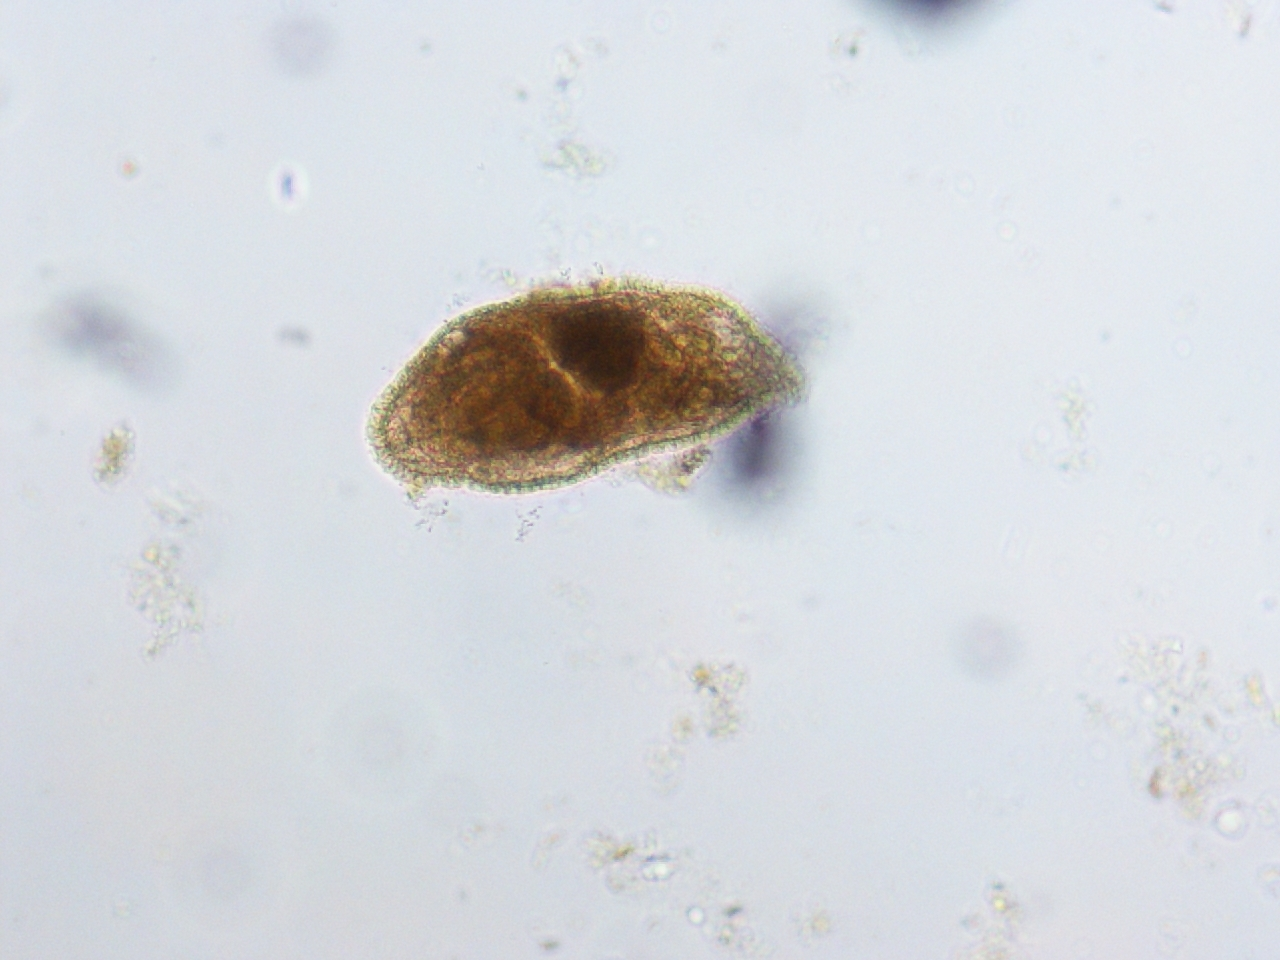turbellarians: (368, 276, 796, 497)
